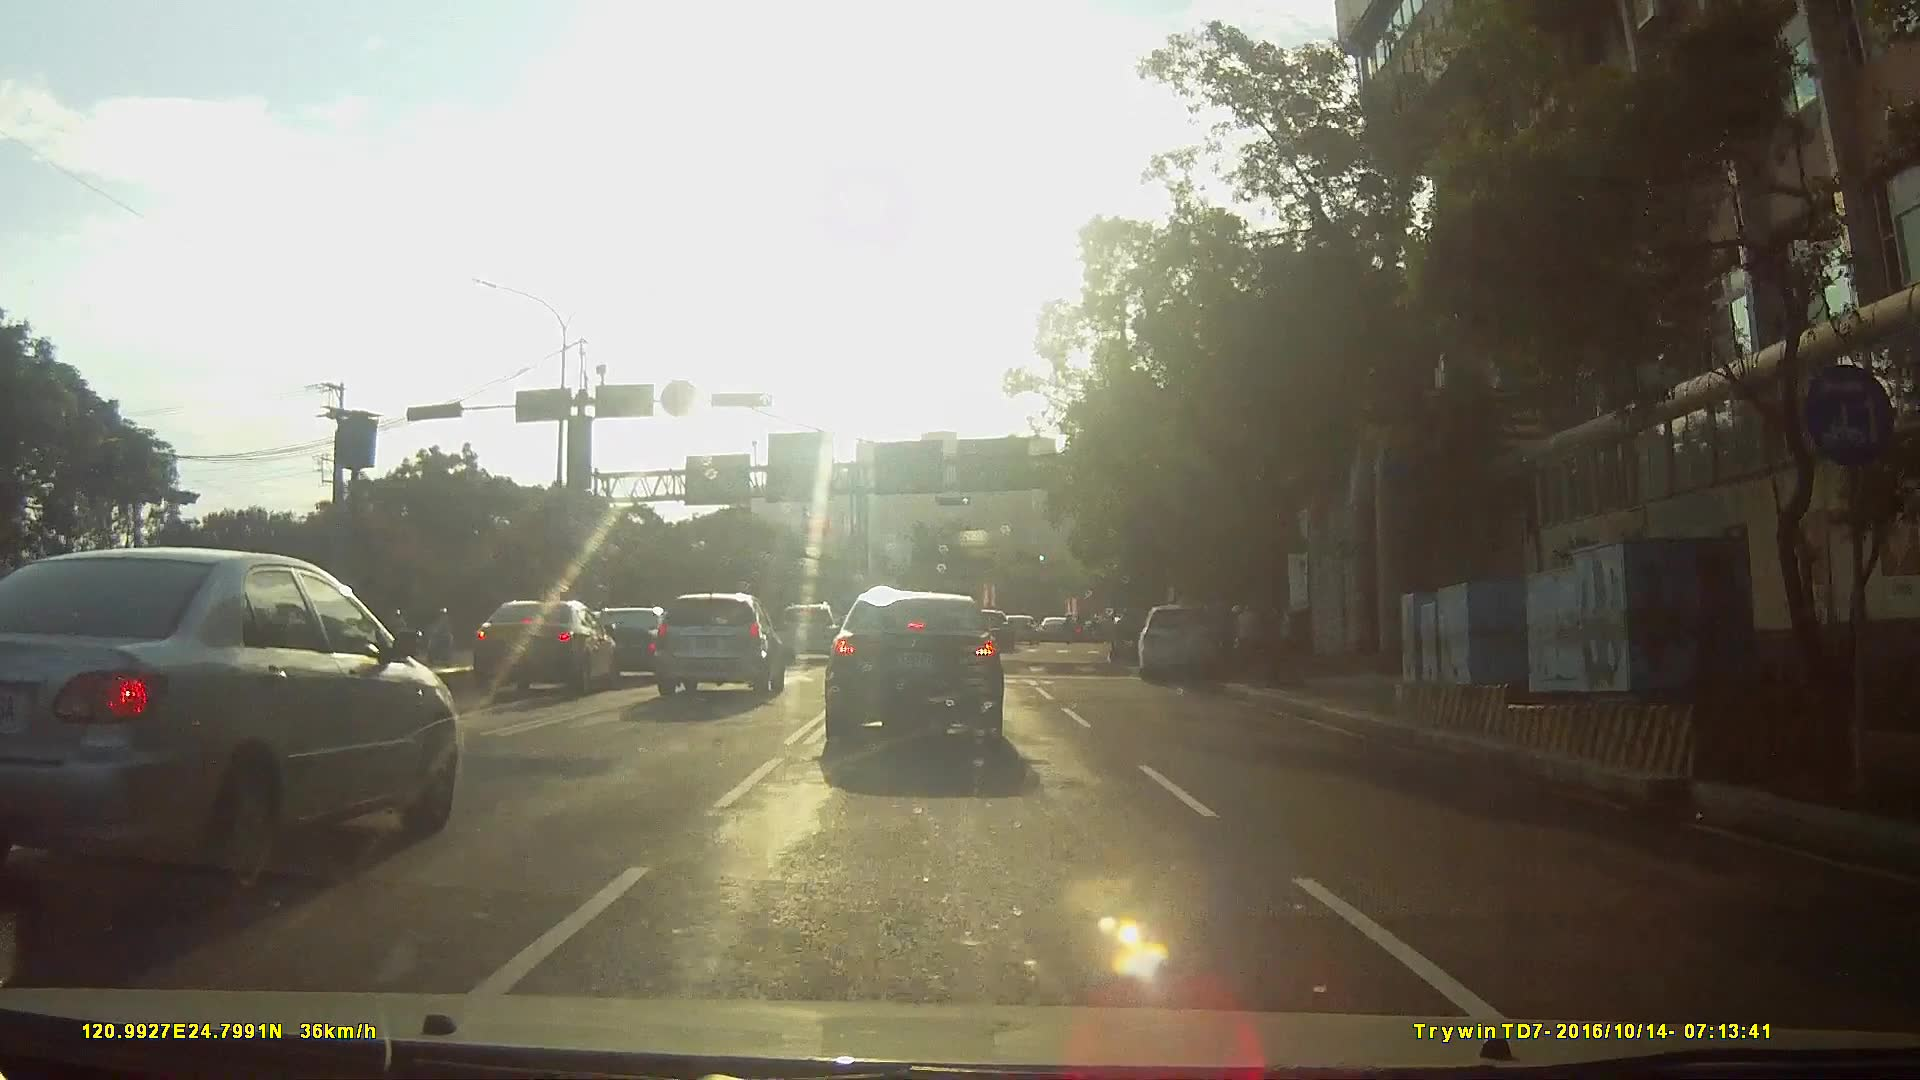pedestrian: (1232, 604, 1262, 670)
rider: (428, 605, 457, 667)
vehicle: (1, 542, 483, 902), (816, 599, 1021, 773), (444, 595, 607, 697), (648, 588, 784, 699), (568, 603, 670, 680), (1143, 604, 1233, 688), (773, 599, 844, 664), (961, 607, 1018, 654), (1005, 612, 1044, 644), (1039, 615, 1079, 643)
